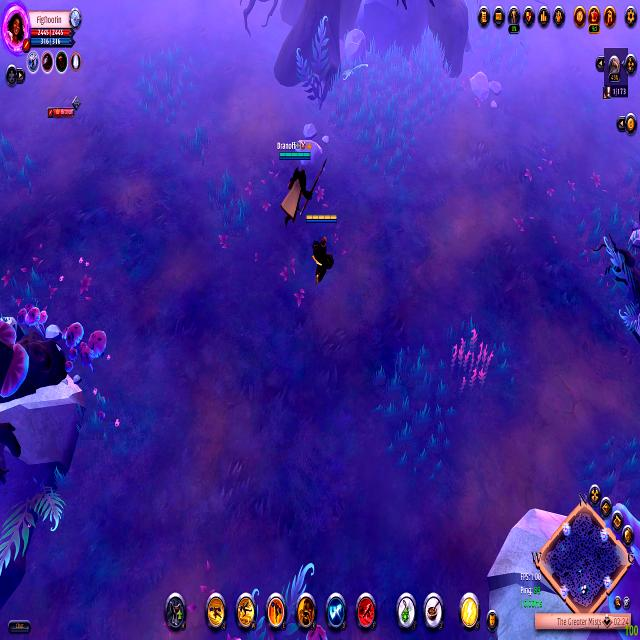red: (274, 134, 328, 236), (304, 206, 341, 290)
